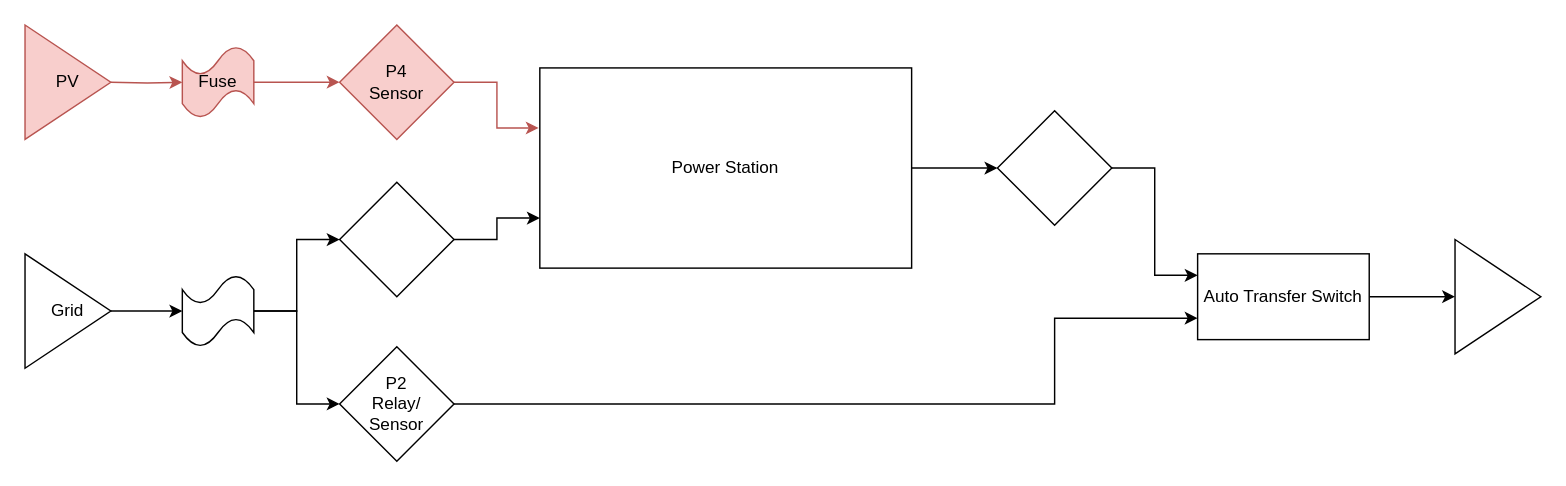
Image size: 1566x486. Some labels were removed from this diagram. The centre of each missing label's shape, as x and y in pixels:
GFCI: the point at 217,310
Load: the point at 1497,296
P1 Relay/ Sensor: the point at 396,239
P3 Sensor: the point at 1054,167
